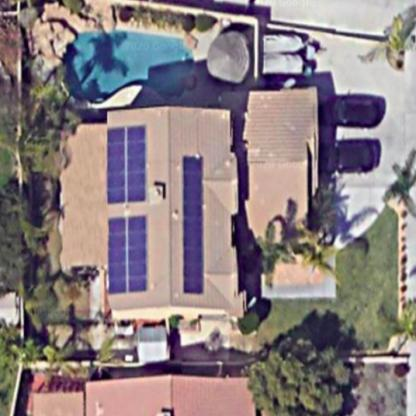car: (314, 134, 388, 176), (316, 86, 381, 131)
solar_panel: (178, 150, 211, 298), (97, 211, 153, 297), (99, 122, 150, 206)
swimming_pool: (43, 19, 223, 113)
